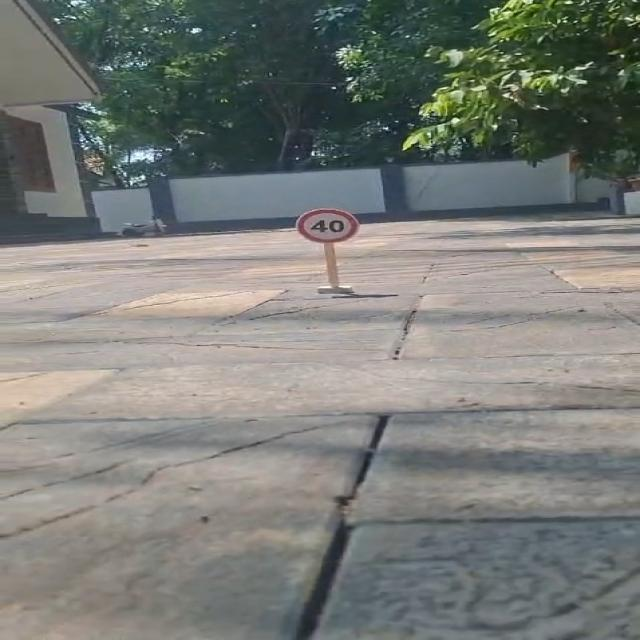Speed40: (293, 206, 364, 245)
